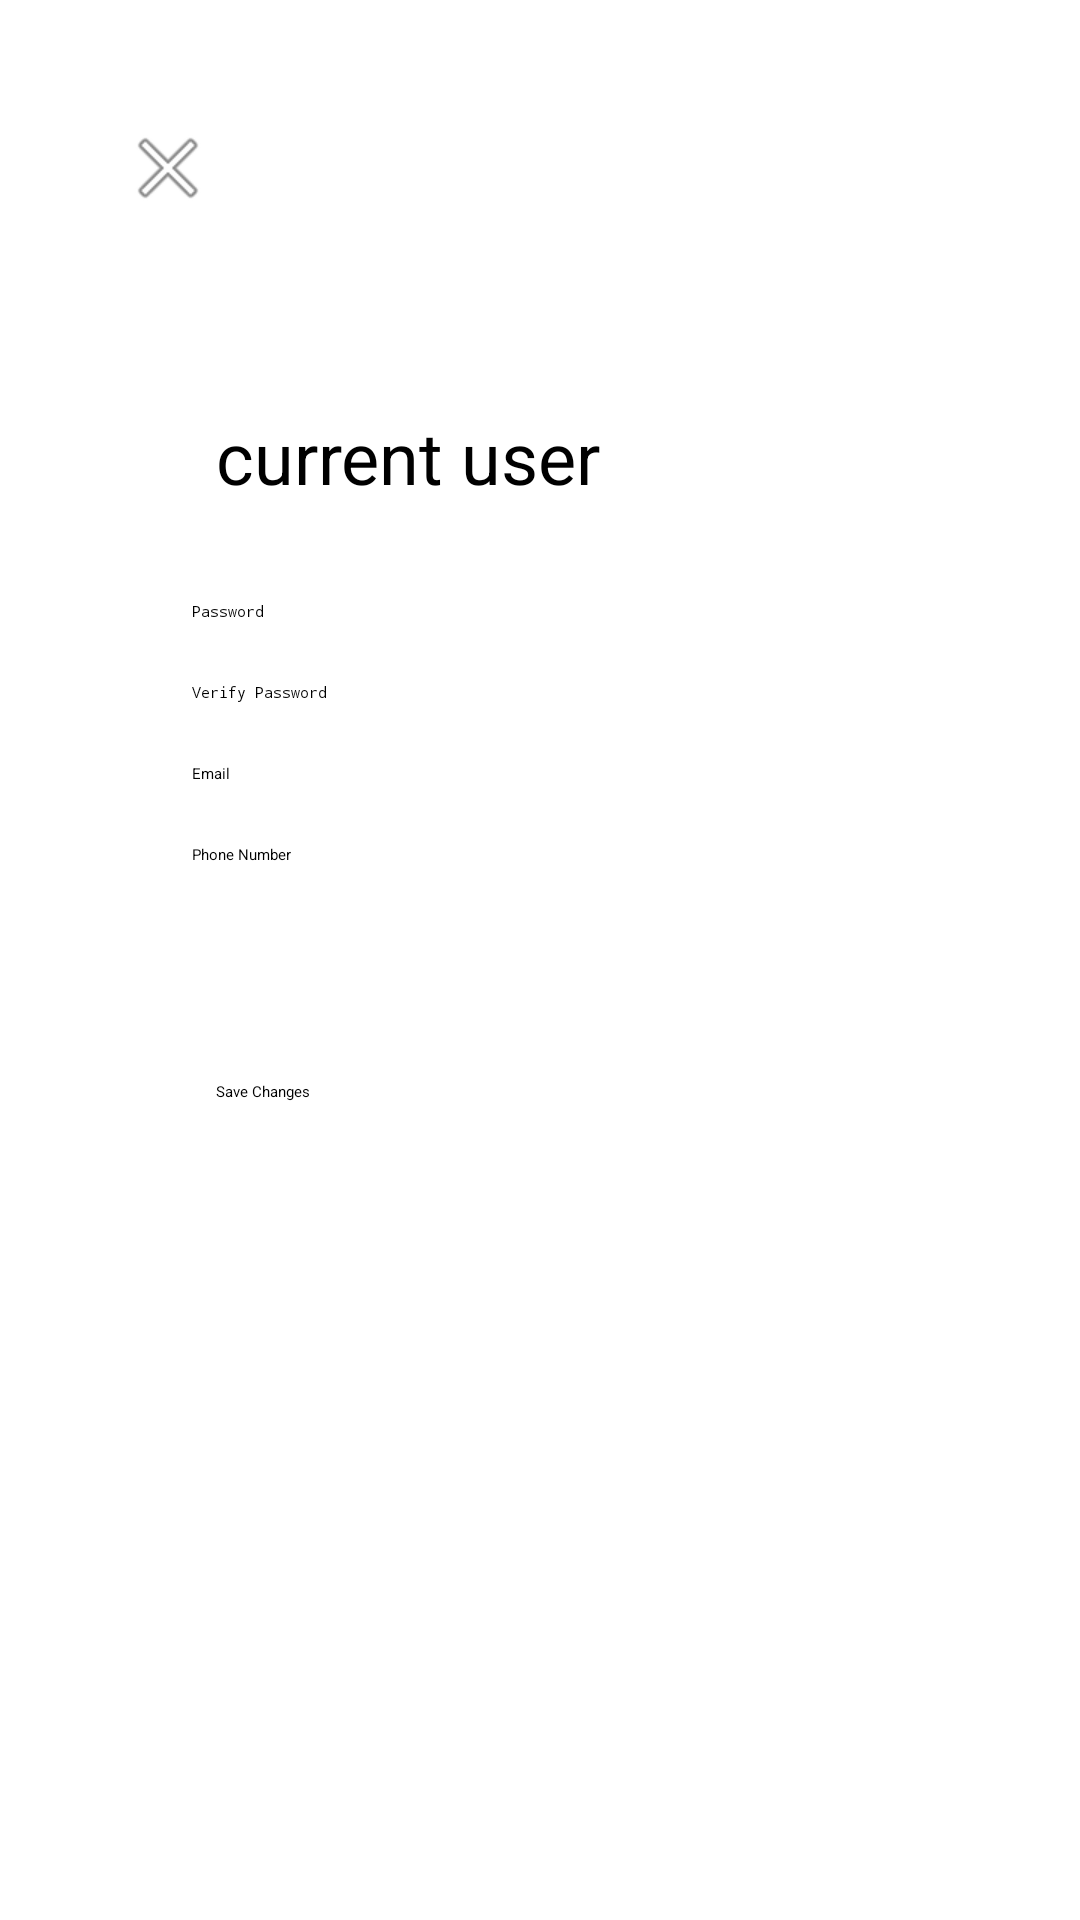

Point at icon controls on the screen. Image size 1080 × 1920, points as (x,y).
close clear cancel: (168,168)
